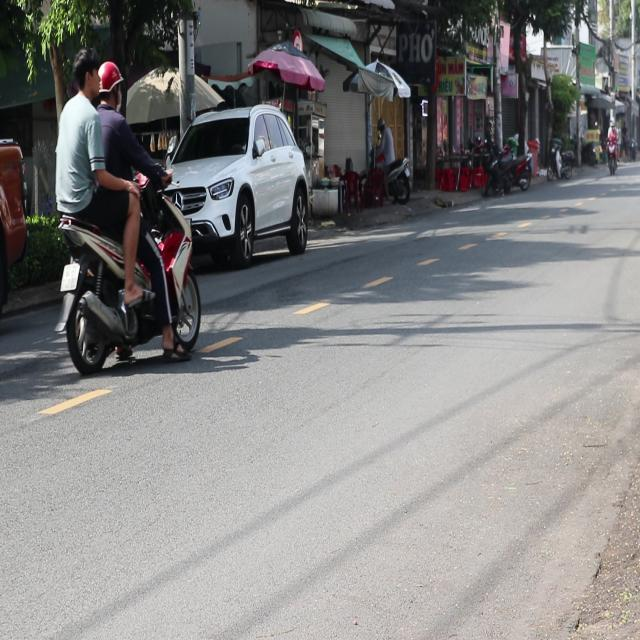helmet: (95, 59, 124, 110)
licenseplate: (51, 51, 206, 372)
motorcyclist: (71, 48, 101, 102)
nohelmet: (60, 263, 80, 291)
